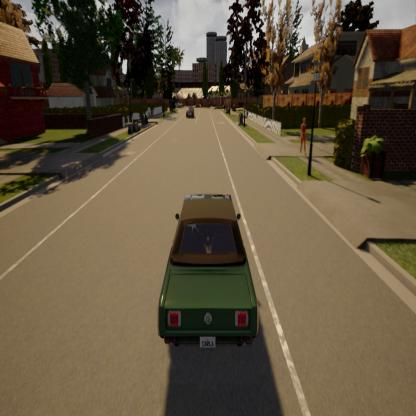Cars: (157, 194, 257, 348), (185, 106, 194, 119)
Pedestrian: (300, 114, 307, 156)
